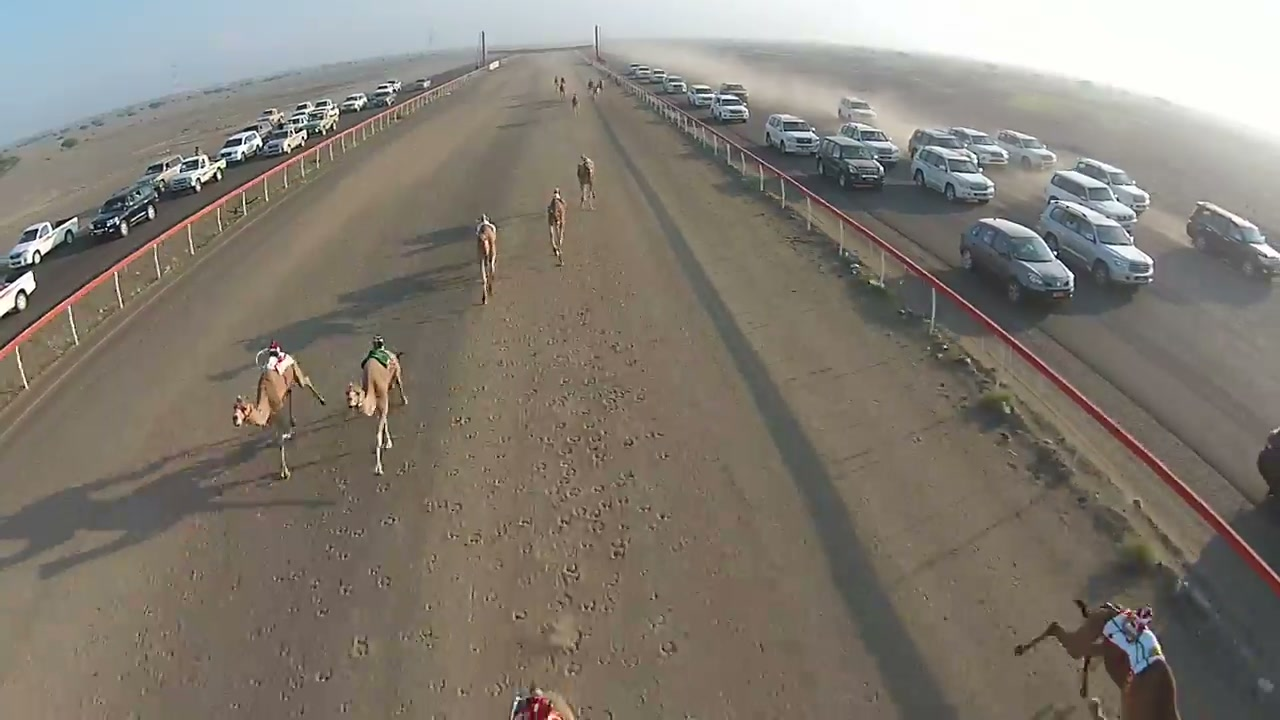animal_foot_print: (286, 307, 699, 706)
